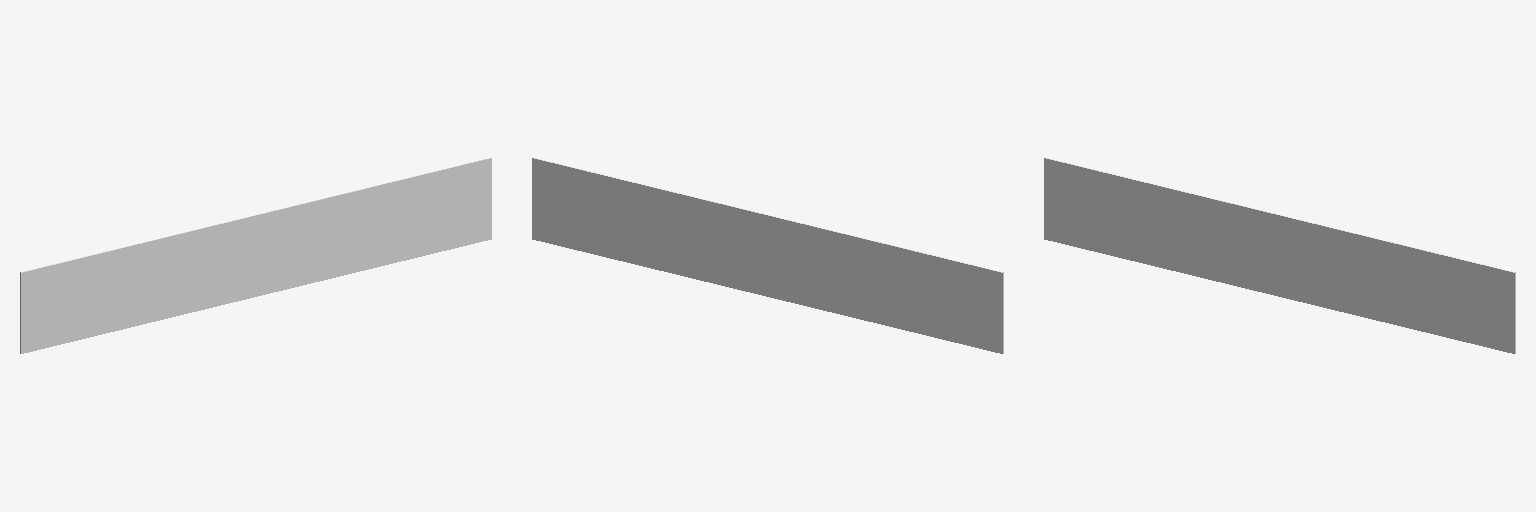
robot.urdf — white_panel_short:
<?xml version='1.0' encoding='utf-8'?>
<robot name="white_panel_short">
  <link name="panel">
    <inertial>
      <mass value="0" />
      <origin xyz="0 -.00125 0" rpy="0 0 0" />
      <inertia ixx="0.0" iyy="0.0" izz="0.0" ixy="0" ixz="0" iyz="0" />
    </inertial>
    <collision>
      <origin xyz="0 -.00125 0" rpy="0 0 0" />
      <geometry>
        <box size="1.13665 .0025 .18796" />
      </geometry>
    </collision>
    <visual>
      <geometry>
        <mesh filename="../meshes/override/white_panel_short.obj" />
      </geometry>
      <material name=".._meshes_override_white_panel_short.obj">
        <color rgba=".96 .965 .975 1" />
      </material>
    </visual>
  </link>
</robot>

--- Facts derived from the render (not from the file) ---
Views: 3 orthographic renders of the robot side by side, from view 1: azimuth 30°, elevation 25°; view 2: azimuth 150°, elevation 25°; view 3: azimuth 330°, elevation 25°.
Robot: white_panel_short — 1 links, 0 joints (none); root link panel; default pose: every joint at zero.
Links seen in each view (by area): view 1: panel; view 2: panel; view 3: panel.
Link boxes in pixels (x1,y1,x2,y2): panel: [20, 158, 491, 353]; panel: [532, 158, 1003, 353]; panel: [1044, 158, 1515, 353].
Size in the robot's own frame: 1.14 by 0.0025 by 0.188 metres.
Meshes: 1 distinct files referenced, 1 mesh visuals loaded (1 OBJ).
